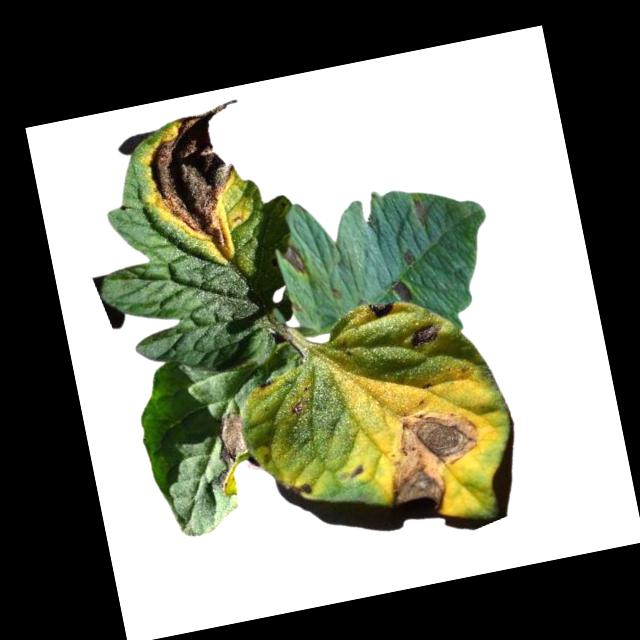Early_blight: (128, 93, 267, 273), (372, 392, 505, 524), (201, 408, 259, 500), (405, 320, 447, 348), (281, 240, 309, 276), (282, 470, 316, 499), (365, 297, 398, 322), (408, 195, 431, 230), (391, 274, 416, 303), (287, 398, 309, 418), (400, 245, 419, 267), (347, 459, 367, 478)
